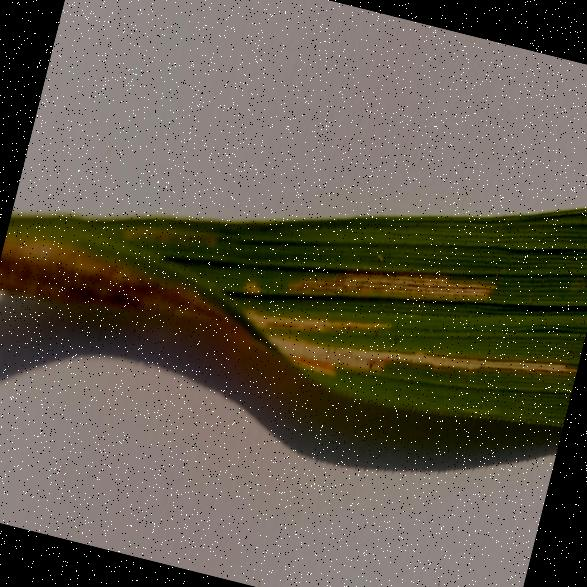Bacteria_Leaf_Blight: (4, 168, 586, 419)
